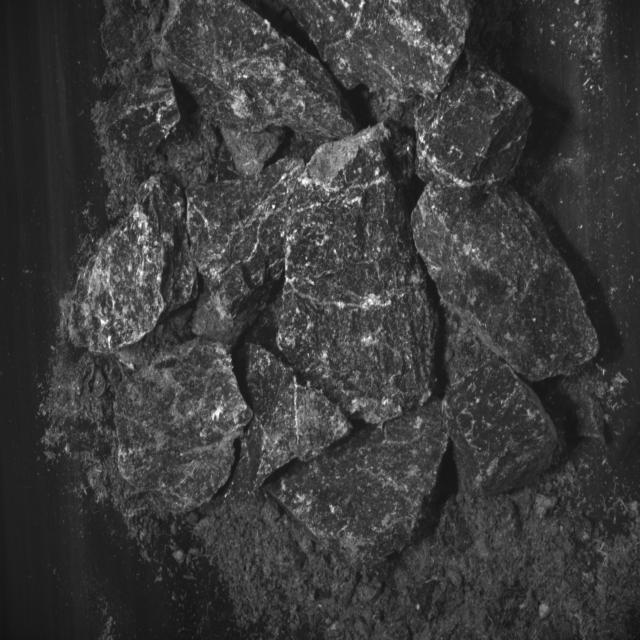Stones: (277, 124, 437, 423), (412, 183, 600, 382), (161, 1, 355, 177), (267, 403, 449, 567), (116, 340, 252, 515), (69, 175, 197, 354), (284, 1, 470, 121), (189, 159, 305, 344), (416, 58, 534, 189), (444, 362, 559, 496)
